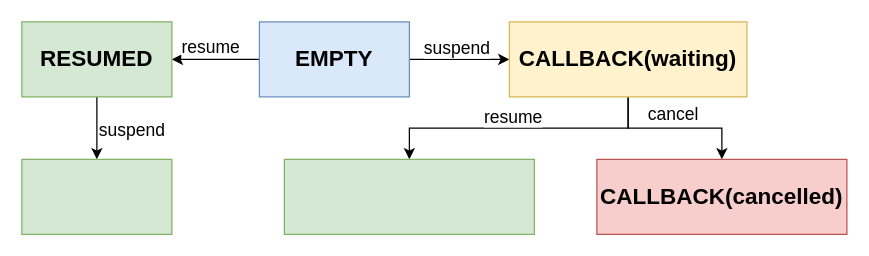
The diagram is 869 pixels wide and 256 high, and some of its shapes have lost their labels. The shapes that lost their labels are listed below. From the top down, each one's centre as x and y in pixels, then its label:
point 96,196: TAKEN
point 408,196: CALLBACK(resumed)
